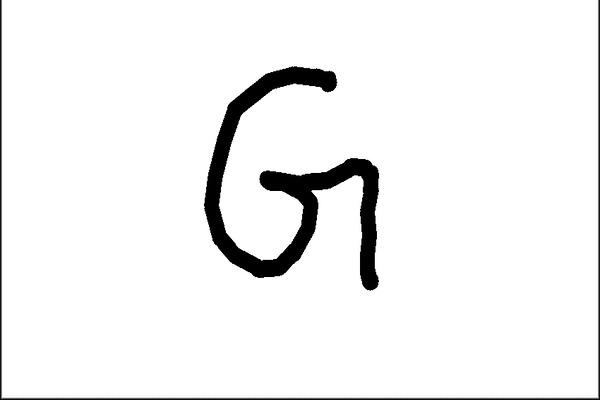G: (199, 62, 389, 296)
